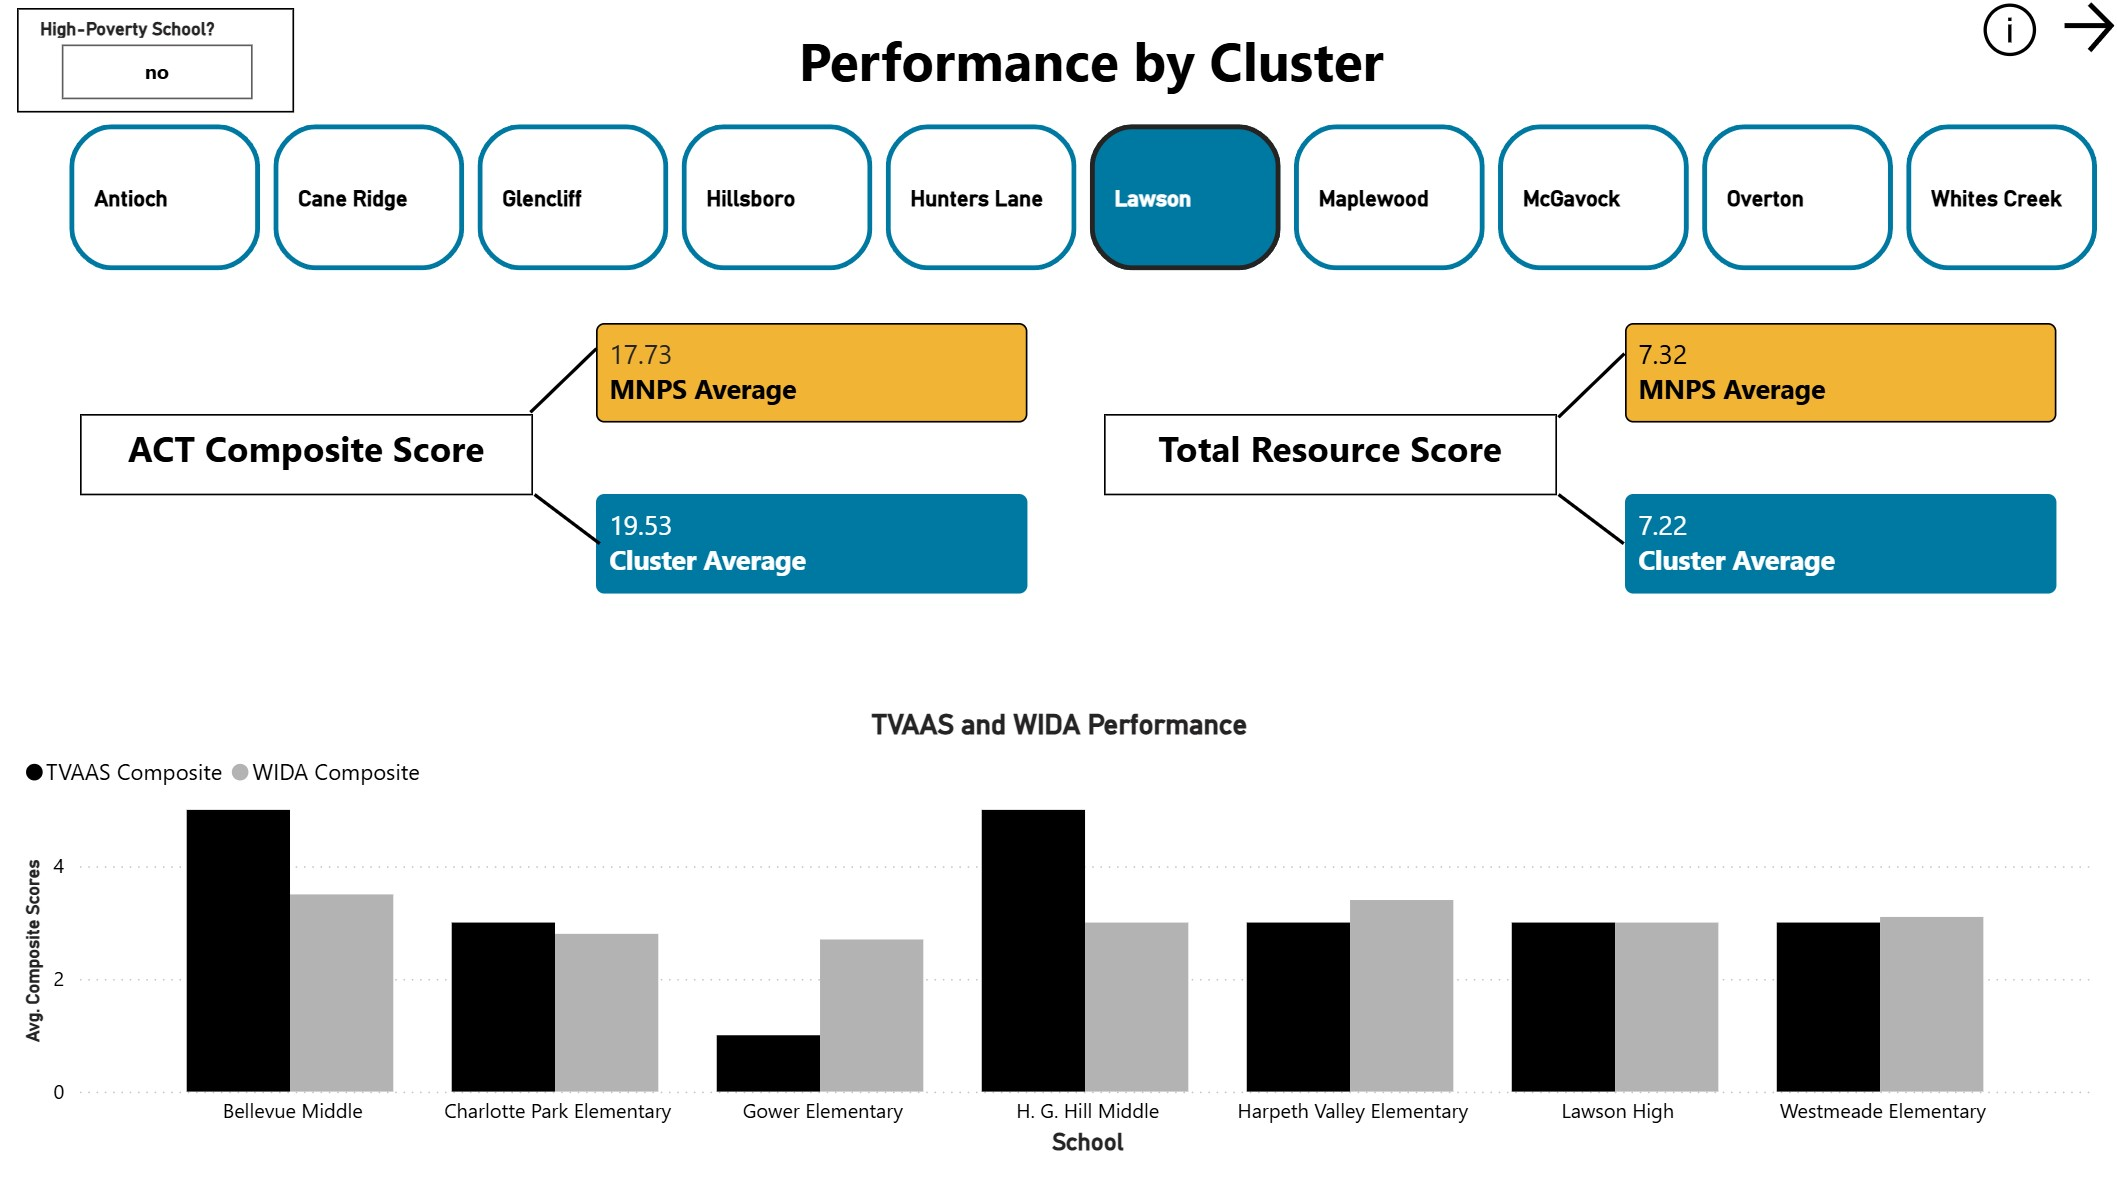

The page's visual inventory and layout, read from the dashboard file:
{"tool":"powerbi","page":{"name":"Clusters","canvas":[1280,720],"ordinal":10},"visuals":[{"type":"clusteredColumnChart","title":"TVAAS and WIDA Performance","fields":{"Category":["schools info.School Name"],"Y":["select","Avg(schools info.tvaas_overall_comp)","Avg(schools info.wida_comp_avg)"]},"box":[11.5,430,1257.8,275.1],"z":0},{"type":"slicer","fields":{"Values":["schools info.high_poverty"]},"box":[1111.1,0,166.4,62.6],"z":1000},{"type":"advancedSlicerVisual","title":"Performance by Cluster","fields":{"Values":["schools info.cluster_name"]},"box":[38.7,73.3,1241.3,98.8],"z":2000},{"type":"multiRowCard","fields":{"Values":["Avg(schools info.act_avg_comp)","select"]},"box":[360.8,198.5,260.3,60.1],"z":3000},{"type":"multiRowCard","fields":{"Values":["Avg(schools info.act_avg_comp)"]},"box":[360.8,301.5,260.3,60],"z":4000},{"type":"multiRowCard","fields":{"Values":["select","Avg(schools info.total_resource_score)"]},"box":[981,198.5,260.3,60.1],"z":5000},{"type":"multiRowCard","fields":{"Values":["select","Avg(schools info.total_resource_score)"]},"box":[981,301.5,260.3,60],"z":6000},{"type":"textbox","box":[458,12.4,402.8,61],"z":7000},{"type":"textbox","box":[50.2,252.9,272.6,48.6],"z":8000},{"type":"textbox","box":[667.2,252.9,272.6,48.6],"z":9000},{"type":"shape","box":[939.8,289.1,41.2,54.4],"z":10000},{"type":"shape","box":[934.1,215.8,53.5,40.4],"z":11000},{"type":"shape","box":[314.6,212.5,53.5,40.4],"z":12000},{"type":"shape","box":[322.9,289.1,41.2,54.4],"z":13000}]}

Visuals, with their boxes in screenshot pixels (x1, y1, x2, y2), scaled from the page's 1280x720 canvas onto the 2117x1181 screenshot:
"TVAAS and WIDA Performance" clusteredColumnChart: {"left": 19, "top": 705, "right": 2099, "bottom": 1157}
slicer - schools info.high_poverty: {"left": 1838, "top": 0, "right": 2113, "bottom": 103}
"Performance by Cluster" advancedSlicerVisual: {"left": 64, "top": 120, "right": 2116, "bottom": 282}
multiRowCard - Avg(schools info.act_avg_comp) x select: {"left": 597, "top": 326, "right": 1027, "bottom": 424}
multiRowCard - Avg(schools info.act_avg_comp): {"left": 597, "top": 495, "right": 1027, "bottom": 593}
multiRowCard - select x Avg(schools info.total_resource_score): {"left": 1622, "top": 326, "right": 2053, "bottom": 424}
multiRowCard - select x Avg(schools info.total_resource_score): {"left": 1622, "top": 495, "right": 2053, "bottom": 593}
textbox: {"left": 757, "top": 20, "right": 1424, "bottom": 120}
textbox: {"left": 83, "top": 415, "right": 534, "bottom": 495}
textbox: {"left": 1103, "top": 415, "right": 1554, "bottom": 495}
shape: {"left": 1554, "top": 474, "right": 1622, "bottom": 563}
shape: {"left": 1545, "top": 354, "right": 1633, "bottom": 420}
shape: {"left": 520, "top": 349, "right": 609, "bottom": 415}
shape: {"left": 534, "top": 474, "right": 602, "bottom": 563}
